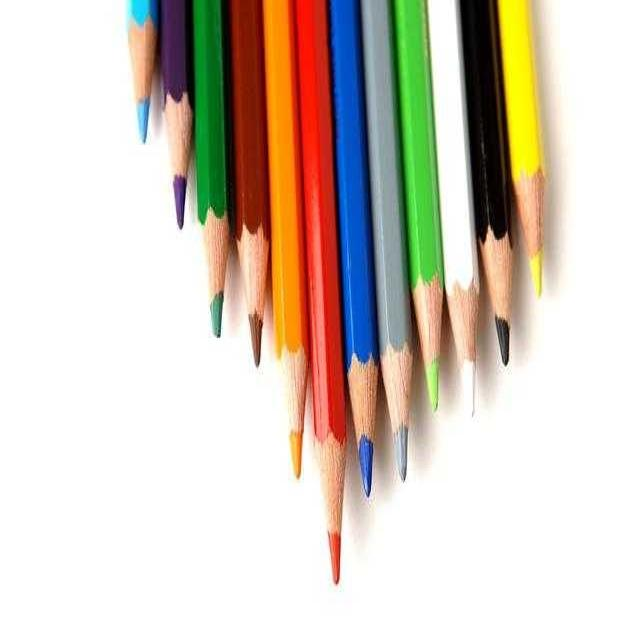pencil: (300, 0, 354, 594), (362, 0, 418, 496), (263, 0, 313, 498), (331, 0, 380, 506), (442, 0, 490, 440), (400, 0, 449, 414), (470, 0, 518, 374), (190, 0, 236, 364), (228, 0, 271, 388), (512, 0, 554, 312), (158, 0, 194, 266), (117, 0, 161, 183)
